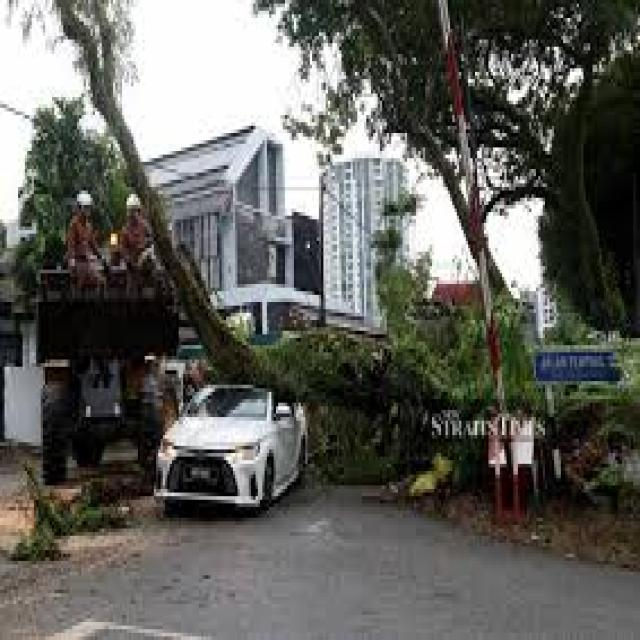crushed car: (134, 361, 373, 580)
road block: (52, 26, 572, 418)
